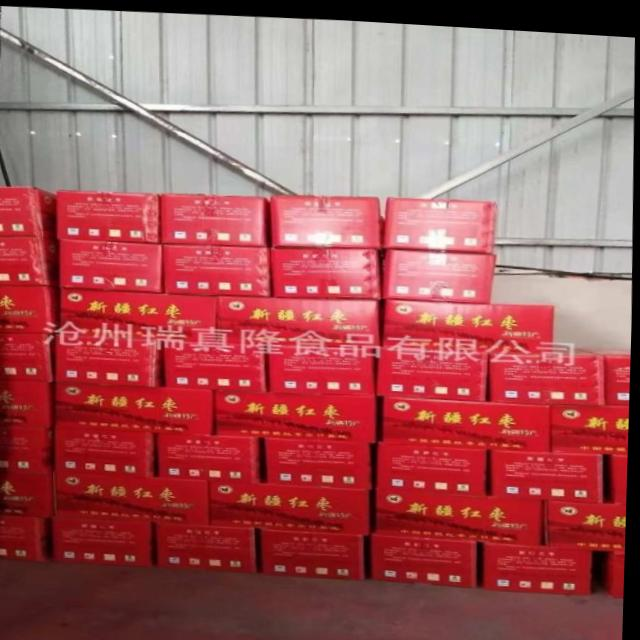box: (382, 291, 555, 349), (375, 483, 551, 540), (216, 289, 377, 347), (215, 384, 379, 440), (383, 389, 551, 442), (52, 467, 208, 524), (204, 474, 371, 526), (58, 286, 214, 337), (52, 380, 214, 429), (382, 243, 499, 297), (488, 346, 608, 398), (375, 436, 490, 490), (262, 432, 379, 485), (386, 193, 497, 248), (149, 423, 261, 477), (485, 534, 595, 588), (59, 235, 163, 292), (490, 439, 608, 489), (53, 330, 160, 385), (377, 344, 491, 395), (160, 192, 273, 243), (372, 527, 478, 581), (268, 190, 376, 242), (163, 334, 272, 385), (261, 522, 370, 573), (267, 341, 377, 391), (268, 245, 380, 294), (55, 187, 161, 238), (56, 419, 157, 472), (162, 241, 268, 290), (157, 521, 260, 569), (51, 516, 158, 561), (549, 395, 631, 444), (547, 491, 629, 539), (0, 235, 62, 286), (0, 330, 58, 384), (0, 466, 56, 517), (0, 418, 54, 470), (0, 186, 54, 236), (0, 281, 54, 331), (0, 511, 52, 562), (0, 378, 56, 423), (604, 347, 631, 394), (604, 446, 630, 494), (610, 538, 628, 586)
